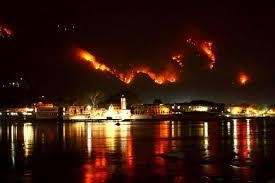fire: (77, 49, 181, 83)
